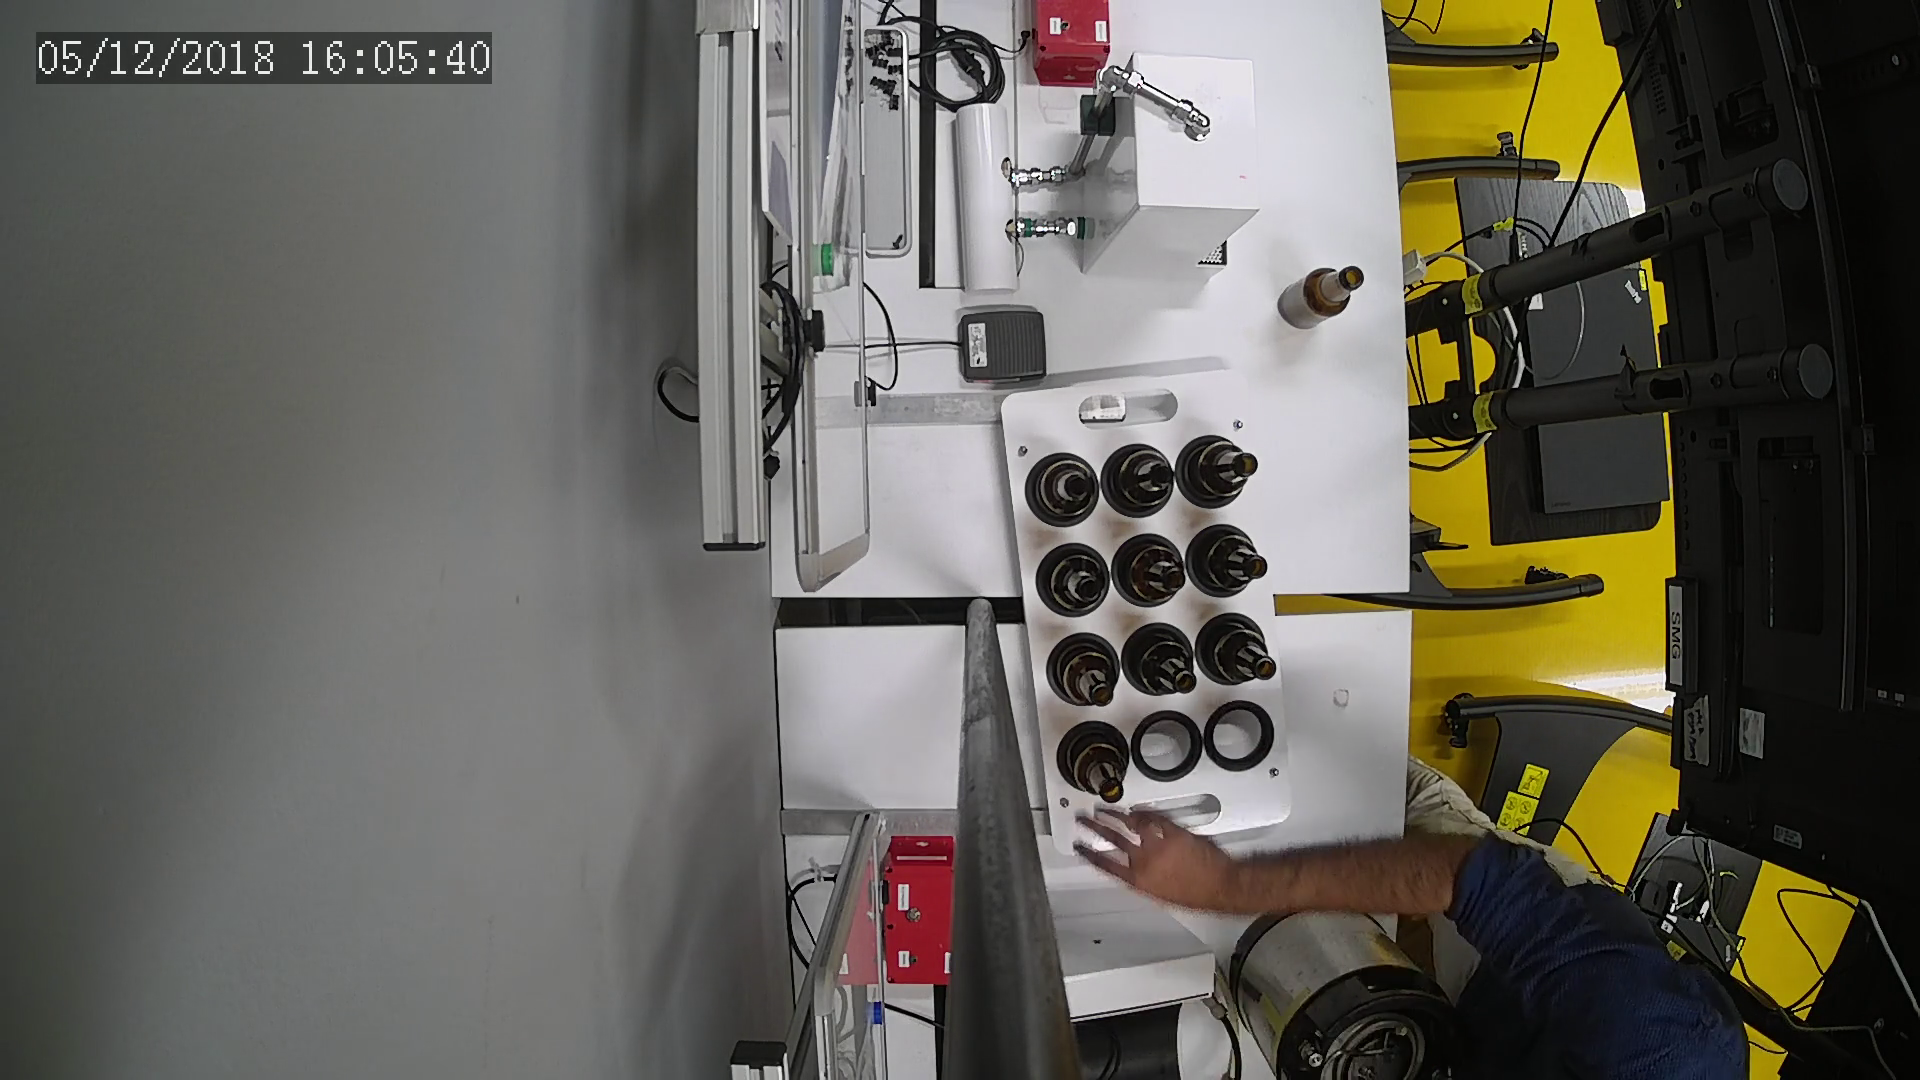filled_bottle: (1193, 605, 1280, 695), (1047, 716, 1131, 808), (1029, 534, 1114, 624), (1172, 429, 1262, 513), (1118, 616, 1201, 702), (1106, 526, 1187, 615), (1187, 516, 1266, 605), (1051, 628, 1131, 715), (1101, 436, 1178, 522), (1021, 448, 1101, 527)
trolley: (997, 361, 1302, 870)
unfilled_bottle: (1276, 262, 1370, 328)
